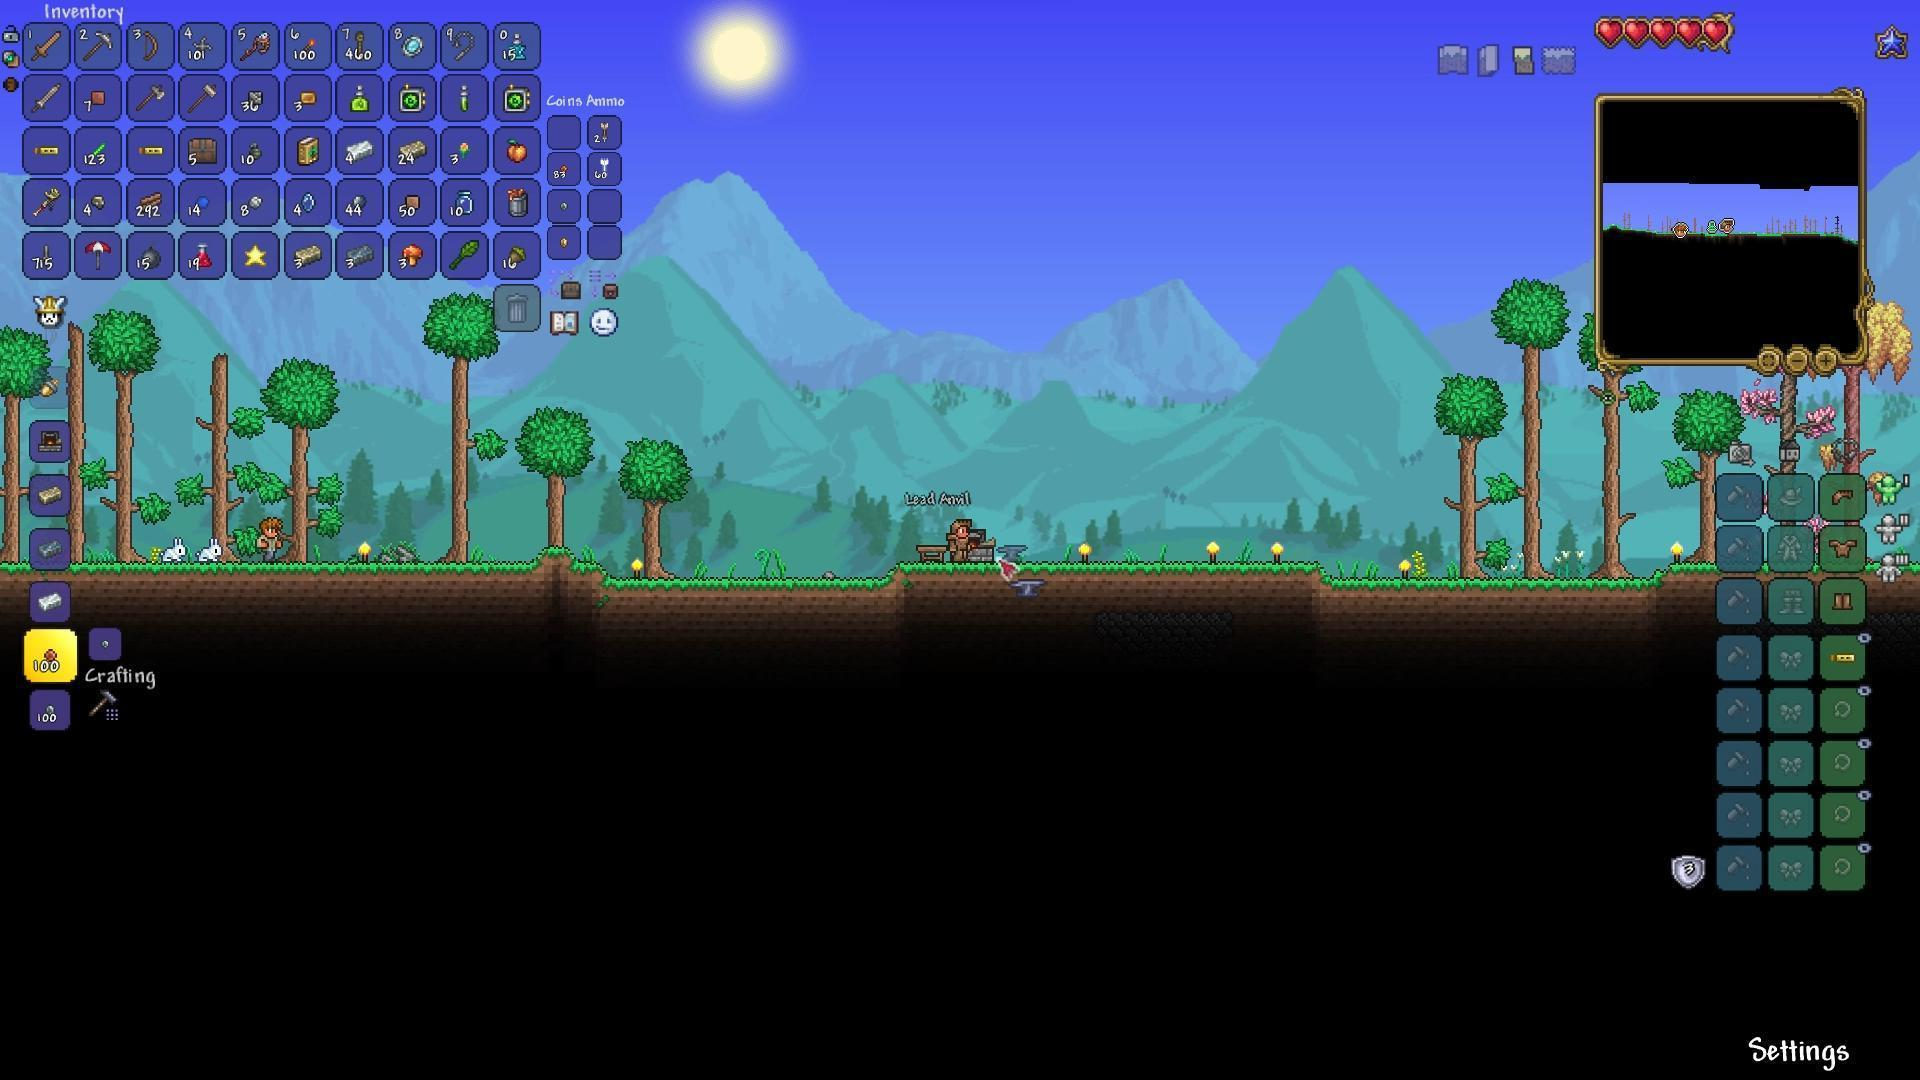anvil: (997, 538, 1027, 563)
bomb: (140, 245, 164, 268)
bow: (142, 29, 160, 62)
breastplate: (1826, 537, 1858, 560)
gel: (194, 193, 211, 208)
glowstick: (88, 142, 109, 158)
grenade: (247, 137, 264, 161)
helmet: (1829, 487, 1855, 509)
knife: (44, 243, 50, 269)
legs: (1830, 588, 1857, 613)
lens: (299, 190, 318, 212)
pickaxe: (80, 29, 117, 63)
shuriken: (193, 36, 214, 58)
wood: (135, 185, 164, 214)
workbench: (914, 542, 949, 563)
